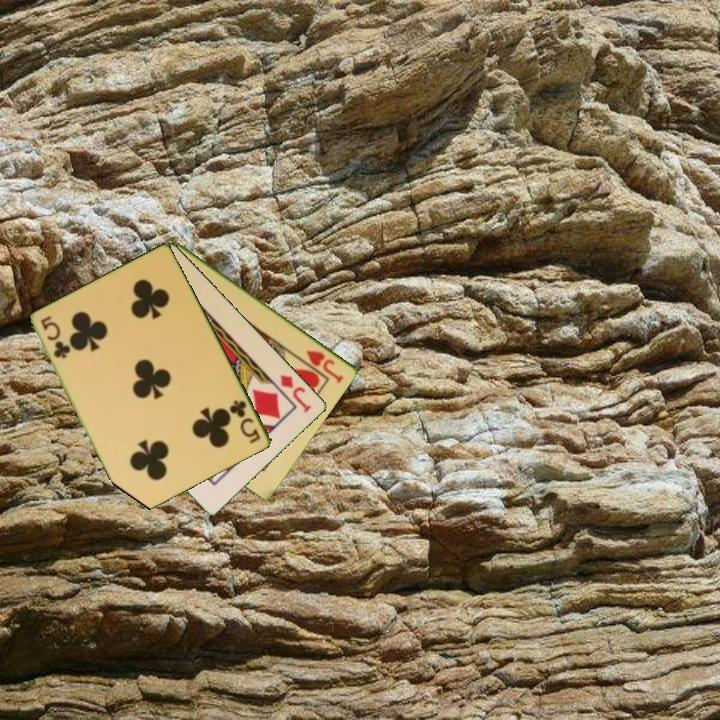5c: (226, 396, 264, 446), (38, 312, 72, 362)
Jd: (277, 371, 315, 415)
Jh: (303, 346, 347, 386)
